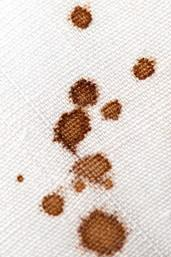gun: (55, 70, 92, 150), (83, 202, 134, 245), (70, 154, 119, 190), (35, 187, 68, 223), (63, 7, 93, 31), (99, 92, 119, 122), (132, 51, 151, 78), (13, 167, 26, 184)
